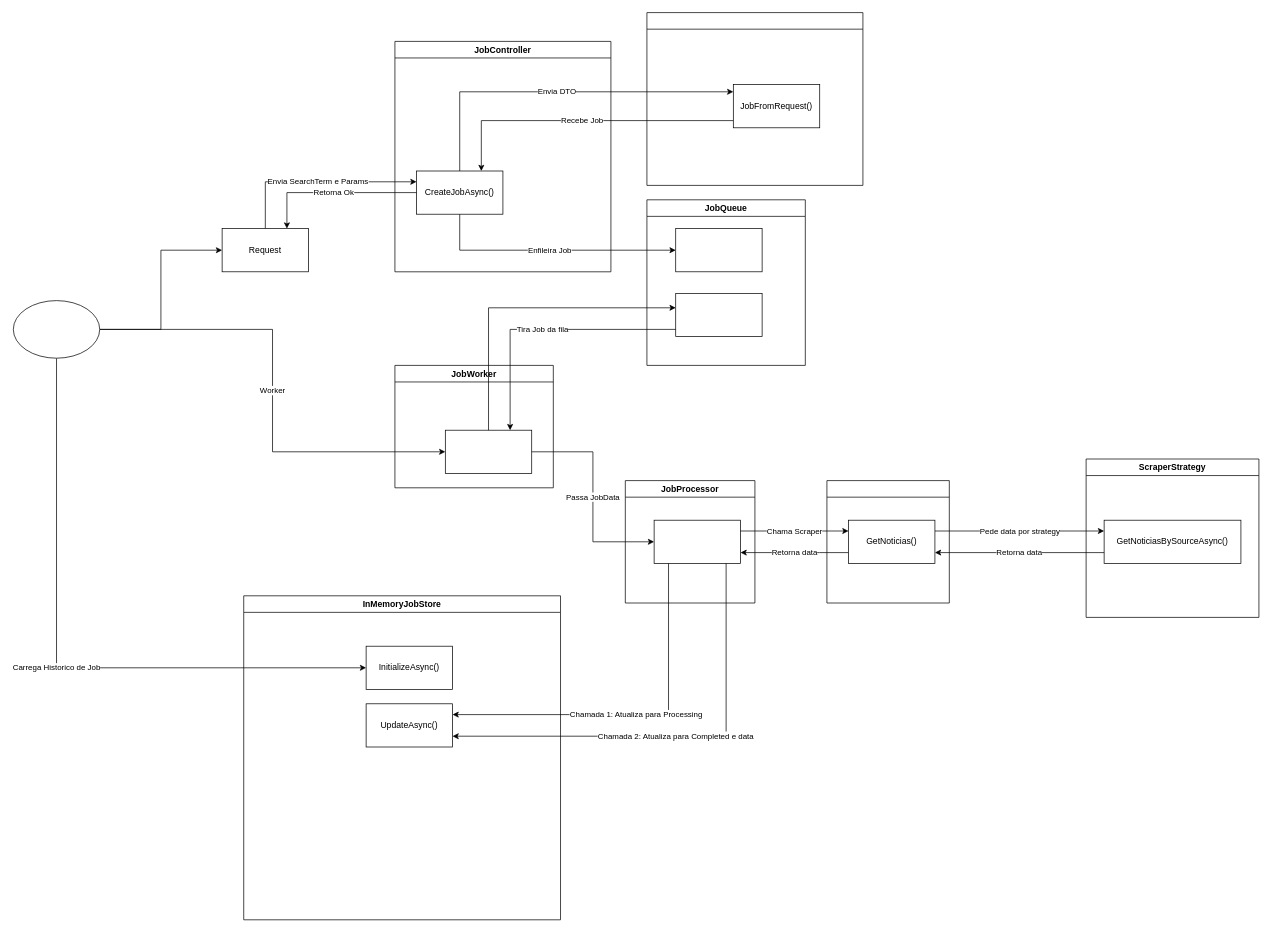
Image size: 1272x932. Some labels were removed from this diagram. Each missing label, with the centre of its shape:
DequeueAsync(): point 718,315
EnqueueAsync(): point 718,250
ExecuteAsync(): point 488,451
JobMapper: point 754,98
ProcessJobAsync(): point 697,541
ScraperProcessor: point 887,541
Startup: point 56,329
